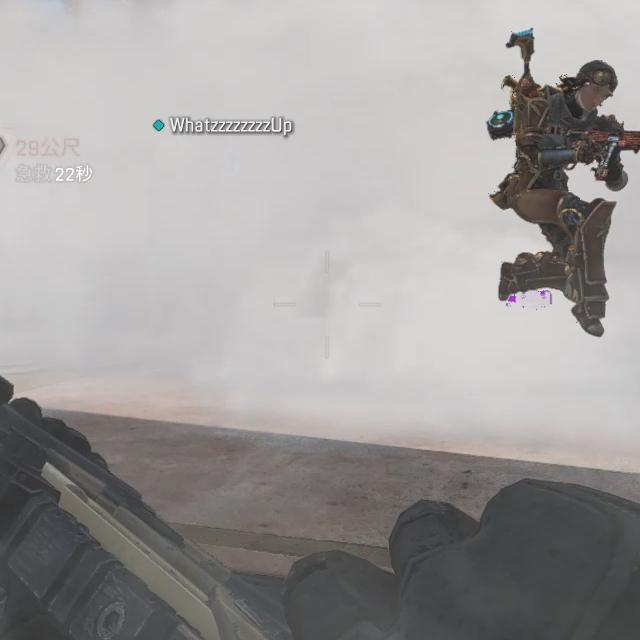avatar: (485, 57, 623, 337)
